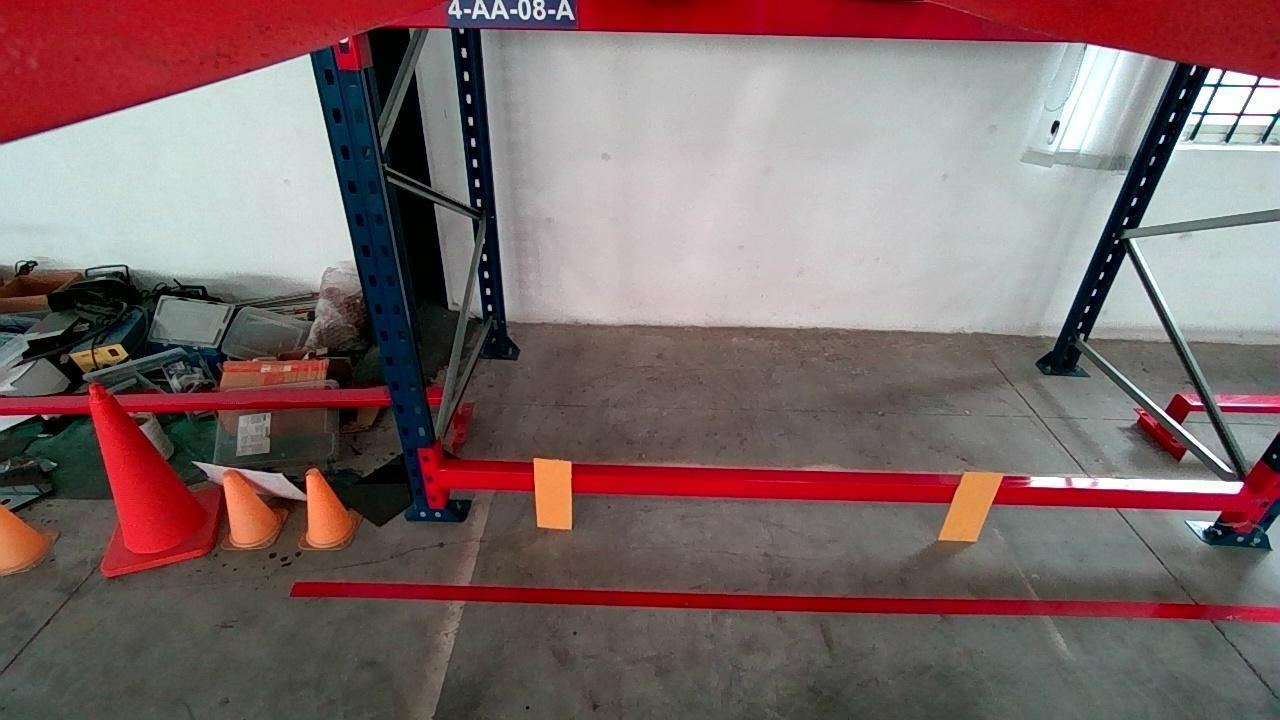h_rack: (437, 468, 1250, 512), (384, 0, 1060, 42)
orange_strip: (941, 473, 1002, 542), (533, 455, 572, 530)
red_line: (293, 582, 1280, 621)
